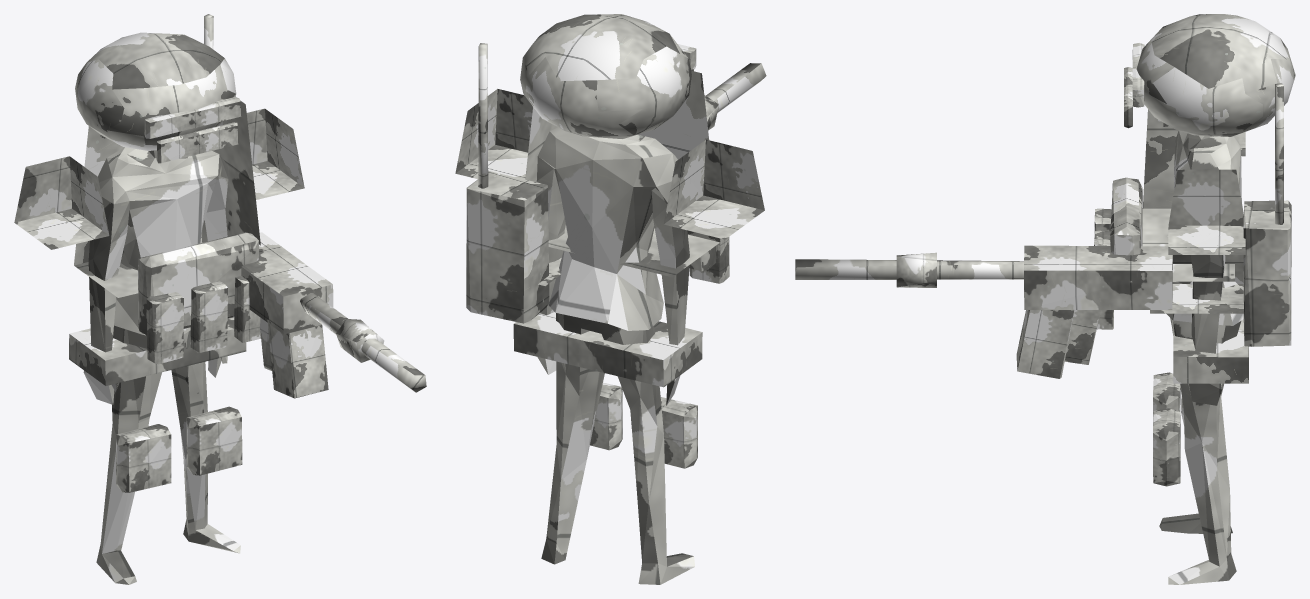
The model's file is soldier_lod.glb.
The picture shows the model from 3 angles, left to right: view 1: azimuth 30°, elevation 25°; view 2: azimuth 150°, elevation 25°; view 3: azimuth 270°, elevation 25°; orthographic projection. The views are drawn at different scales.
Parts seen in each view (by area): view 1: soldier_lod_team_primary; view 2: soldier_lod_team_primary; view 3: soldier_lod_team_primary.
Part boxes in pixels (x1,y1,x2,y2): soldier_lod_team_primary: (14,14,426,584); soldier_lod_team_primary: (455,14,766,584); soldier_lod_team_primary: (795,14,1295,584).
Size of the model in its own units: 0.7524 by 1.45 by 1.24.
Materials: 1 (1 with a texture image).
